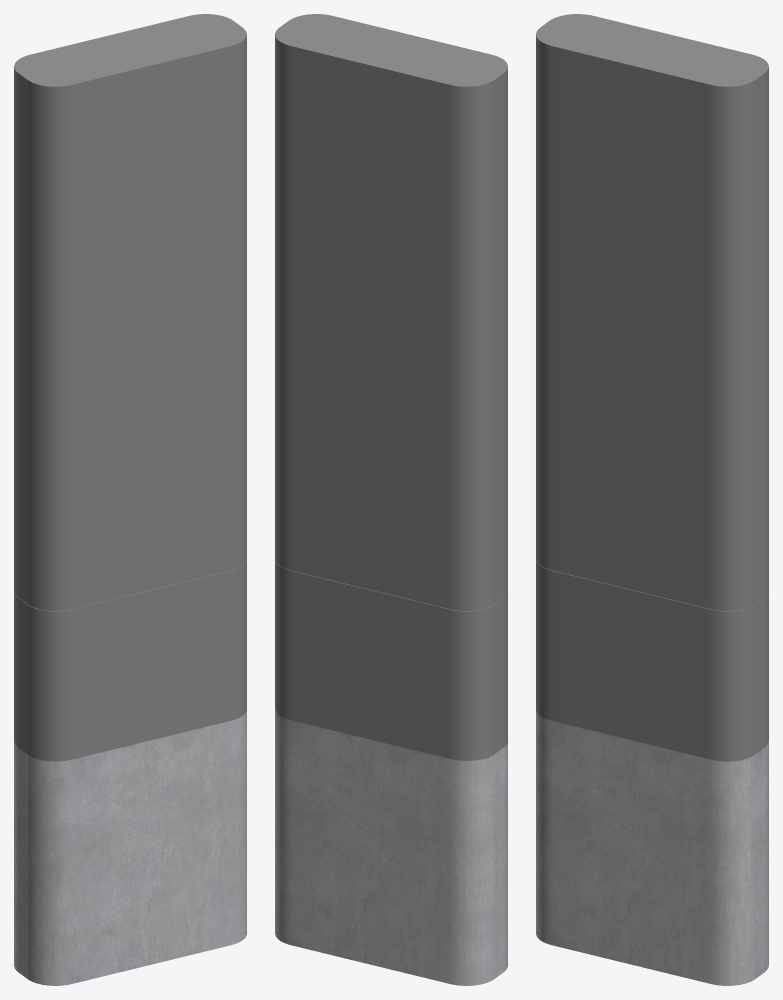
The picture shows the model from 3 angles, left to right: view 1: azimuth 30°, elevation 25°; view 2: azimuth 150°, elevation 25°; view 3: azimuth 330°, elevation 25°; orthographic projection.
Parts seen in each view (by area): view 1: 3DGeom-2.001, 3DGeom-2, 3DGeom-1, 3DGeom-1.001, 3DGeom-1.002; view 2: 3DGeom-2.001, 3DGeom-2, 3DGeom-1.001, 3DGeom-1, 3DGeom-1.002; view 3: 3DGeom-2.001, 3DGeom-2, 3DGeom-1, 3DGeom-1.001, 3DGeom-1.002.
Boxes of the visible parts, x1,y1,x2,y2 form: 3DGeom-2.001: [14, 14, 246, 311]; 3DGeom-2: [14, 710, 246, 985]; 3DGeom-1: [14, 560, 246, 761]; 3DGeom-1.001: [14, 410, 246, 611]; 3DGeom-1.002: [14, 261, 246, 461]; 3DGeom-2.001: [275, 14, 507, 311]; 3DGeom-2: [275, 709, 507, 985]; 3DGeom-1.001: [275, 409, 507, 611]; 3DGeom-1: [275, 559, 507, 760]; 3DGeom-1.002: [275, 259, 507, 461]; 3DGeom-2.001: [536, 14, 768, 311]; 3DGeom-2: [536, 710, 768, 985]; 3DGeom-1: [536, 560, 768, 761]; 3DGeom-1.001: [536, 410, 768, 611]; 3DGeom-1.002: [536, 261, 768, 461].
Bounding box in the file's own units: 1.5 × 5.99 × 0.5.
2 materials, 1 textured.
